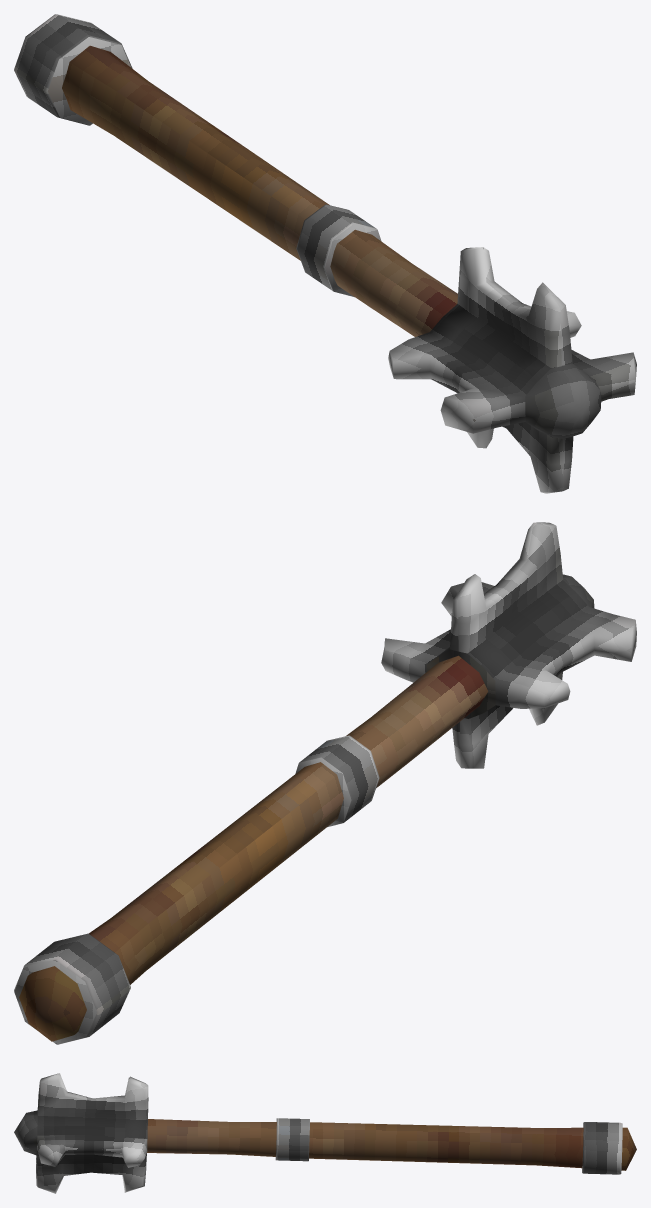
Rendered from MaceIron.fbx.
3 renders of one model, top to bottom at view 1: azimuth 30°, elevation 25°; view 2: azimuth 150°, elevation 25°; view 3: azimuth 270°, elevation 25°, orthographic. The views are drawn at different scales.
Parts seen in each view (by area): view 1: iron_mace_Cube.012; view 2: iron_mace_Cube.012; view 3: iron_mace_Cube.012.
Part boxes in pixels (left/top/right/bottom): iron_mace_Cube.012: left=14, top=14, right=636, bottom=493; iron_mace_Cube.012: left=14, top=522, right=636, bottom=1044; iron_mace_Cube.012: left=14, top=1073, right=636, bottom=1193.
Bounding box in the file's own units: 0.2164 × 0.2209 × 1.03.
1 material, 1 textured.
